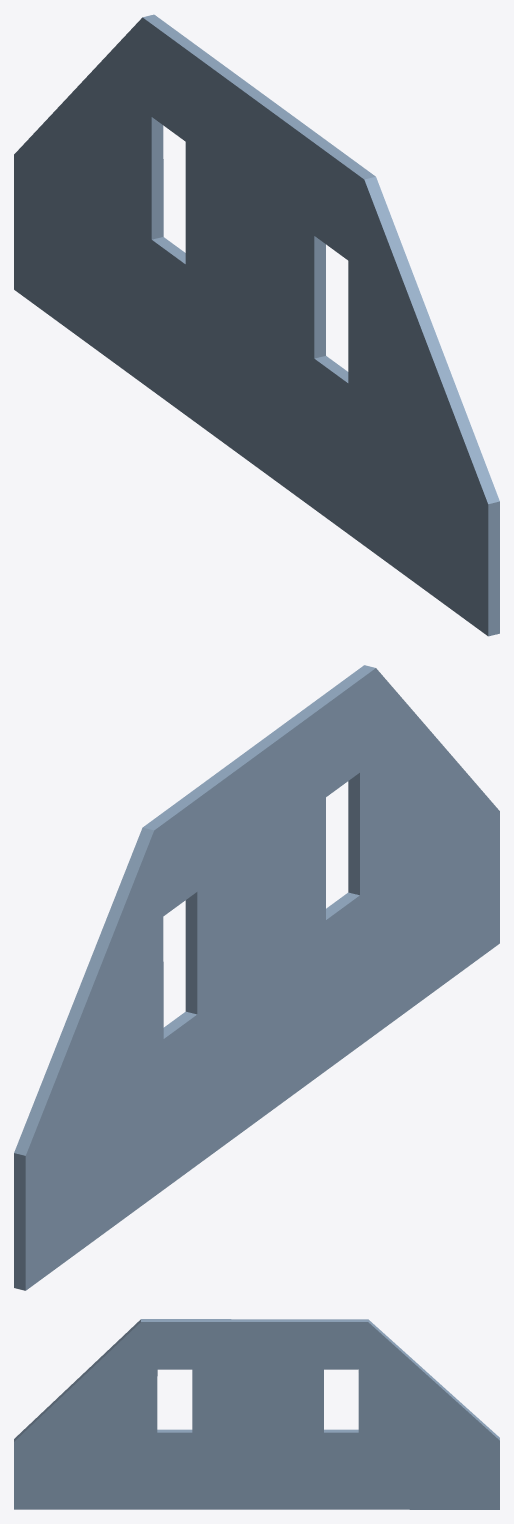
The model's file is outer_left_wall_first.fbx.
3 views of the same model, one above another, from view 1: azimuth 30°, elevation 25°; view 2: azimuth 150°, elevation 25°; view 3: azimuth 270°, elevation 25° (orthographic). The views are drawn at different scales.
Visible parts, largest first — view 1: outer_left_wall_first; view 2: outer_left_wall_first; view 3: outer_left_wall_first.
Boxes of the visible parts, box(x1,y1,x2,y2) form: outer_left_wall_first: box(14, 14, 499, 636); outer_left_wall_first: box(14, 665, 499, 1290); outer_left_wall_first: box(14, 1319, 499, 1509).
Size of the model in its own units: 17.9 by 534 by 1253.
